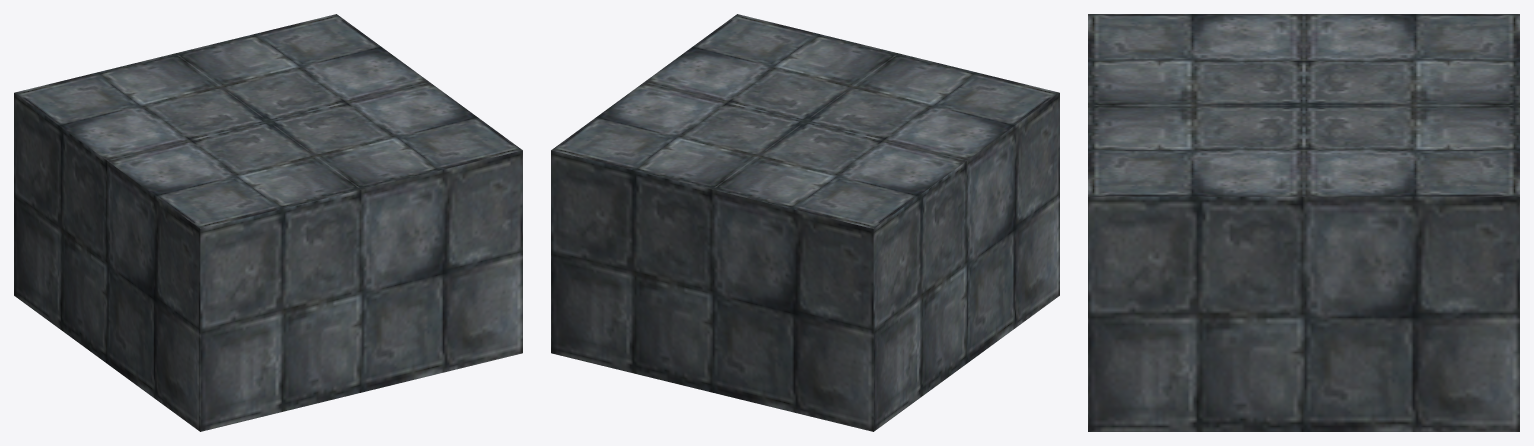
Rendered from top-floor-02.fbx.
The picture shows the model from 3 angles, left to right: view 1: azimuth 30°, elevation 25°; view 2: azimuth 150°, elevation 25°; view 3: azimuth 270°, elevation 25°; orthographic projection. The views are drawn at different scales.
Parts seen in each view (by area): view 1: Plane.015; view 2: Plane.015; view 3: Plane.015.
Part boxes in pixels (box(x1,y1,x2,y2)): Plane.015: box(14, 14, 522, 431); Plane.015: box(551, 14, 1059, 431); Plane.015: box(1088, 14, 1519, 431).
Size of the model in its own units: 1 by 0.6014 by 1.
